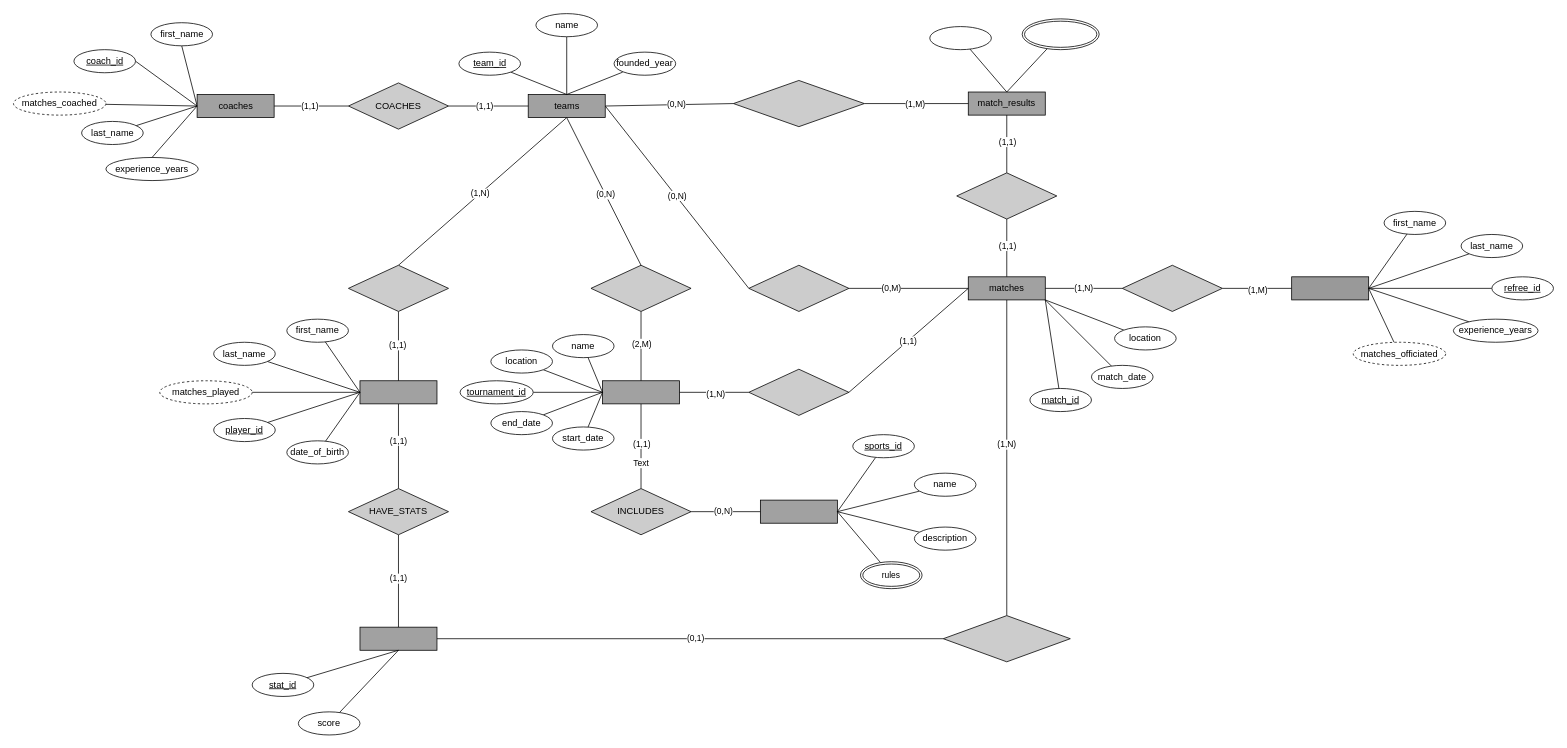
The diagram is 1567 pixels wide and 748 high, and some of its shapes have lost their labels. Here are the shapes that lost their labels. From the top down, the centre of each, then its label:
At (x=960, y=38): "results_id".
At (x=1060, y=34): "teams_result".
At (x=798, y=103): "HAVE_MATCH_RESULTS".
At (x=1006, y=195): "RESULTS".
At (x=398, y=287): "PLAYS_FOR".
At (x=640, y=287): "ATTEND".
At (x=798, y=287): "PARTICIPATED".
At (x=1172, y=287): "HAVE_REFREES".
At (x=1330, y=288): "referees".
At (x=398, y=392): "players".
At (x=641, y=392): "tournaments".
At (x=798, y=391): "HAVE".
At (x=798, y=511): "sports".
At (x=398, y=638): "player_stats".
At (x=1006, y=638): "HAVE_PLAYER_STATS".
